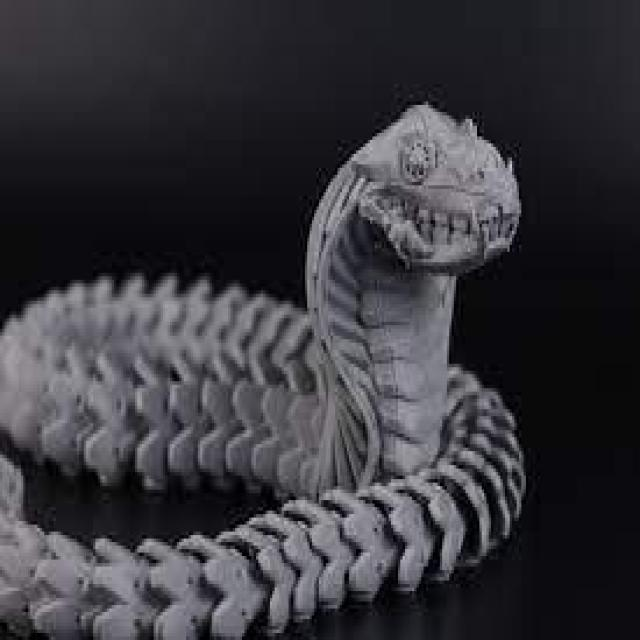Without deffect: (0, 58, 539, 635)
